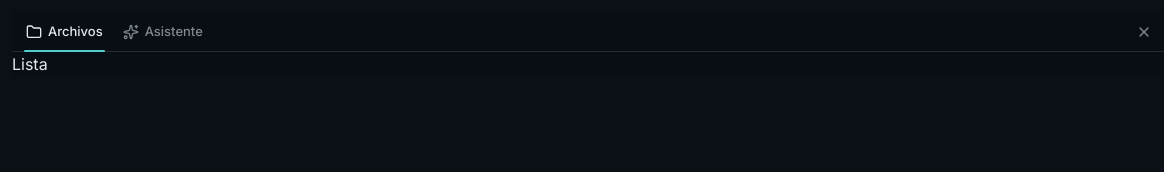
it: PanelLateral › cambia de pestaña con un clic y conserva la otra montada
Step 1. Click the tab "Asistente" → (163, 32), box [113, 12, 213, 51]
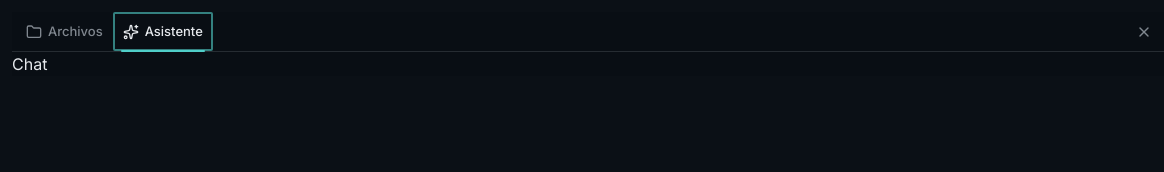
Expected: the panel named "Asistente" reads "Chat", [12, 54, 47, 74]
Expected: the text "Lista" is gone
